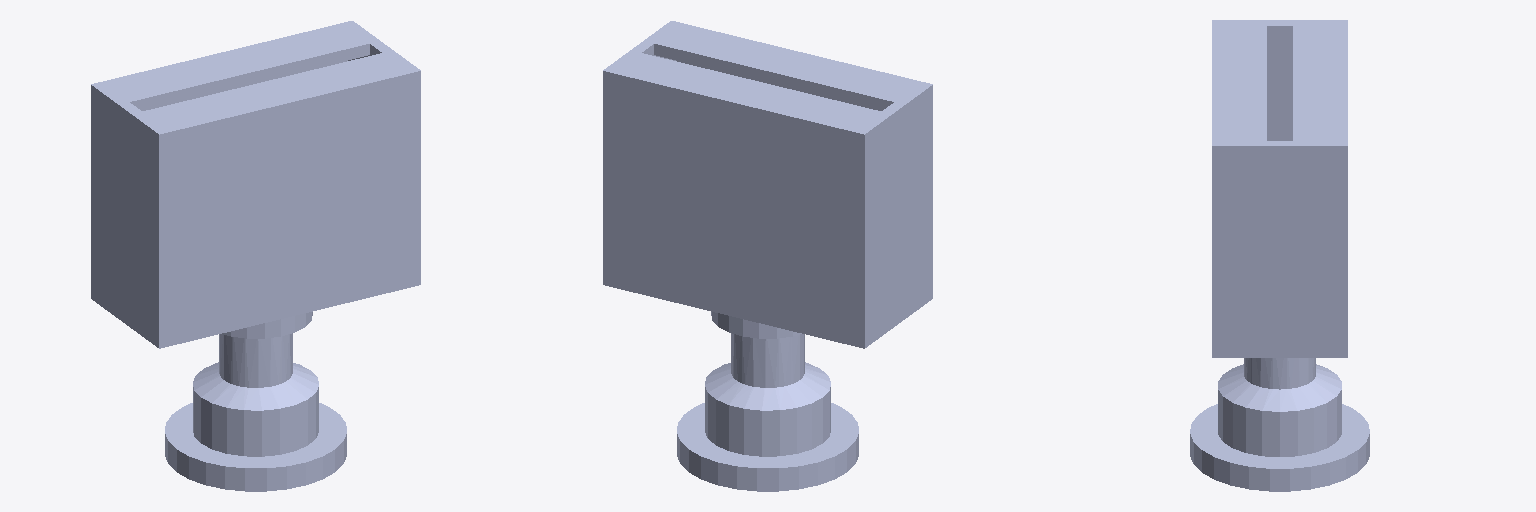
robot.urdf — ee_assem:
<?xml version="1.0" encoding="utf-8"?>
<!-- This URDF was automatically created by SolidWorks to URDF Exporter! Originally created by [author] ([email redacted]) 
     Commit Version: 1.5.1-0-g916b5db  Build Version: 1.5.7152.31018
     For more information, please see http://wiki.ros.org/sw_urdf_exporter -->
<robot
  name="ee_assem">
  <link
    name="base_link">
    <inertial>
      <origin
        xyz="8.3267E-17 0 0.096992"
        rpy="0 0 0" />
      <mass
        value="0.24537" />
      <inertia
        ixx="0.0006313"
        ixy="3.4792E-20"
        ixz="-5.4174E-19"
        iyy="0.00085607"
        iyz="4.6906E-20"
        izz="0.00041783" />
    </inertial>
    <visual>
      <origin
        xyz="0 0 0"
        rpy="0 0 0" />
      <geometry>
        <mesh
          filename="package://ee_assem/meshes/base_link.STL" />
      </geometry>
      <material
        name="">
        <color
          rgba="0.79216 0.81961 0.93333 1" />
      </material>
    </visual>
    <collision>
      <origin
        xyz="0 0 0"
        rpy="0 0 0" />
      <geometry>
        <mesh
          filename="package://ee_assem/meshes/base_link.STL" />
      </geometry>
    </collision>
  </link>
  <link
    name="link_1">
    <inertial>
      <origin
        xyz="-0.0065931 0 0.024057"
        rpy="0 0 0" />
      <mass
        value="0.0153" />
      <inertia
        ixx="4.711E-06"
        ixy="1.2925E-23"
        ixz="-3.3914E-07"
        iyy="4.494E-06"
        iyz="1.2925E-23"
        izz="7.6554E-07" />
    </inertial>
    <visual>
      <origin
        xyz="0 0 0"
        rpy="0 0 0" />
      <geometry>
        <mesh
          filename="package://ee_assem/meshes/link_1.STL" />
      </geometry>
      <material
        name="">
        <color
          rgba="0.79216 0.81961 0.93333 1" />
      </material>
    </visual>
    <collision>
      <origin
        xyz="0 0 0"
        rpy="0 0 0" />
      <geometry>
        <mesh
          filename="package://ee_assem/meshes/link_1.STL" />
      </geometry>
    </collision>
  </link>
  <joint
    name="joint_1"
    type="prismatic">
    <origin
      xyz="0 0 0.163"
      rpy="0 0 0" />
    <parent
      link="base_link" />
    <child
      link="link_1" />
    <axis
      xyz="-1 0 0" />
    <limit
      lower="-0.2"
      upper="0"
      effort="20"
      velocity="2" />
  </joint>
  <link
    name="link_2">
    <inertial>
      <origin
        xyz="-0.0065931 0 0.024057"
        rpy="0 0 0" />
      <mass
        value="0.0153" />
      <inertia
        ixx="4.711E-06"
        ixy="-4.4529E-24"
        ixz="-3.3914E-07"
        iyy="4.494E-06"
        iyz="1.0501E-22"
        izz="7.6554E-07" />
    </inertial>
    <visual>
      <origin
        xyz="0 0 0"
        rpy="0 0 0" />
      <geometry>
        <mesh
          filename="package://ee_assem/meshes/link_2.STL" />
      </geometry>
      <material
        name="">
        <color
          rgba="0.79216 0.81961 0.93333 1" />
      </material>
    </visual>
    <collision>
      <origin
        xyz="0 0 0"
        rpy="0 0 0" />
      <geometry>
        <mesh
          filename="package://ee_assem/meshes/link_2.STL" />
      </geometry>
    </collision>
  </link>
  <joint
    name="joint_2"
    type="prismatic">
    <origin
      xyz="0 0 0.163"
      rpy="0 0 3.1416" />
    <parent
      link="base_link" />
    <child
      link="link_2" />
    <axis
      xyz="1 0 0" />
    <limit
      lower="0"
      upper="0.2"
      effort="20"
      velocity="2" />
  </joint>
</robot>

--- Facts derived from the render (not from the file) ---
The picture shows the robot from 3 angles, left to right: view 1: azimuth 30°, elevation 25°; view 2: azimuth 150°, elevation 25°; view 3: azimuth 270°, elevation 25°; orthographic projection.
Robot: ee_assem — 3 links, 2 joints (2 prismatic); root link base_link; default pose: every joint at zero.
Links seen in each view (by area): view 1: base_link; view 2: base_link; view 3: base_link.
Link boxes in pixels (bbox=[...]): base_link: bbox=[91, 21, 420, 491]; base_link: bbox=[603, 21, 932, 491]; base_link: bbox=[1190, 20, 1369, 491].
Size in the robot's own frame: 0.119 by 0.0719 by 0.163 metres.
1 mesh visuals loaded from 3 distinct referenced files (1 binary STL); not drawn: 2 (reference not matched to a file when rendering).